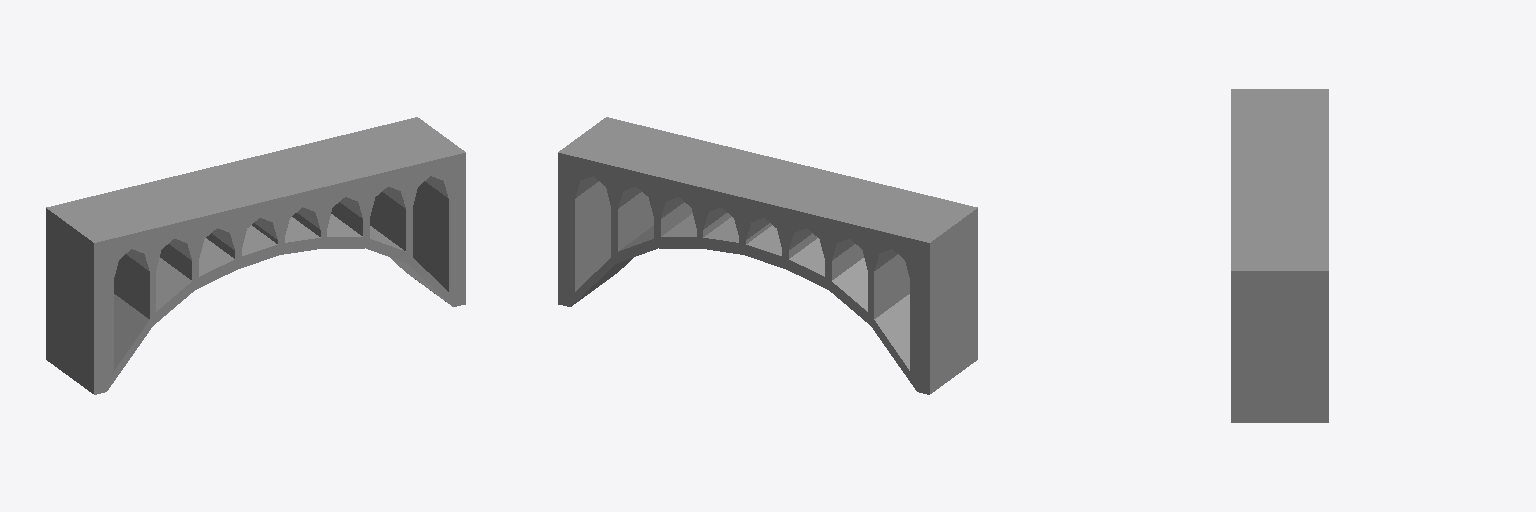
The model's file is circulararchbridge.obj.
3 views of the same model, side by side, from view 1: azimuth 30°, elevation 25°; view 2: azimuth 150°, elevation 25°; view 3: azimuth 270°, elevation 25° (orthographic).
Visible parts, largest first — view 1: Cylinder; view 2: Cylinder; view 3: Cylinder.
Boxes of the visible parts, x1,y1,x2,y2 form: Cylinder: [46, 117, 465, 394]; Cylinder: [558, 117, 977, 394]; Cylinder: [1231, 89, 1328, 422].
Bounding box in the file's own units: 13.74 × 5.37 × 3.11.